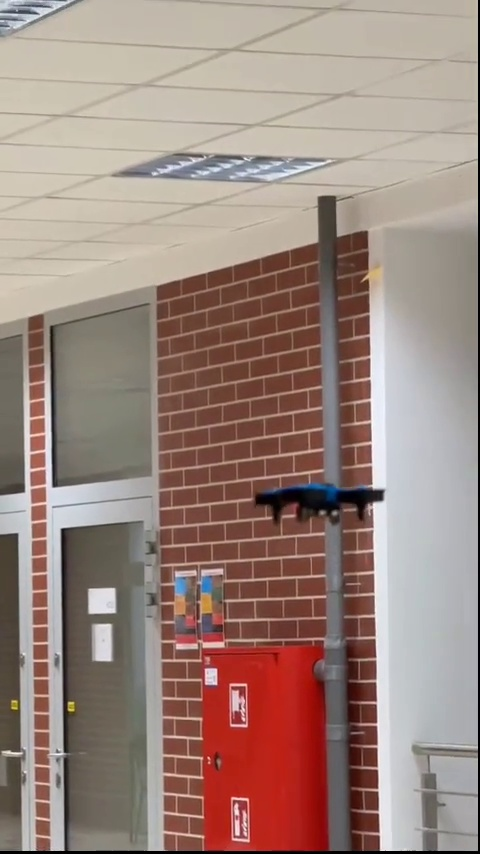drone: (254, 480, 382, 532)
